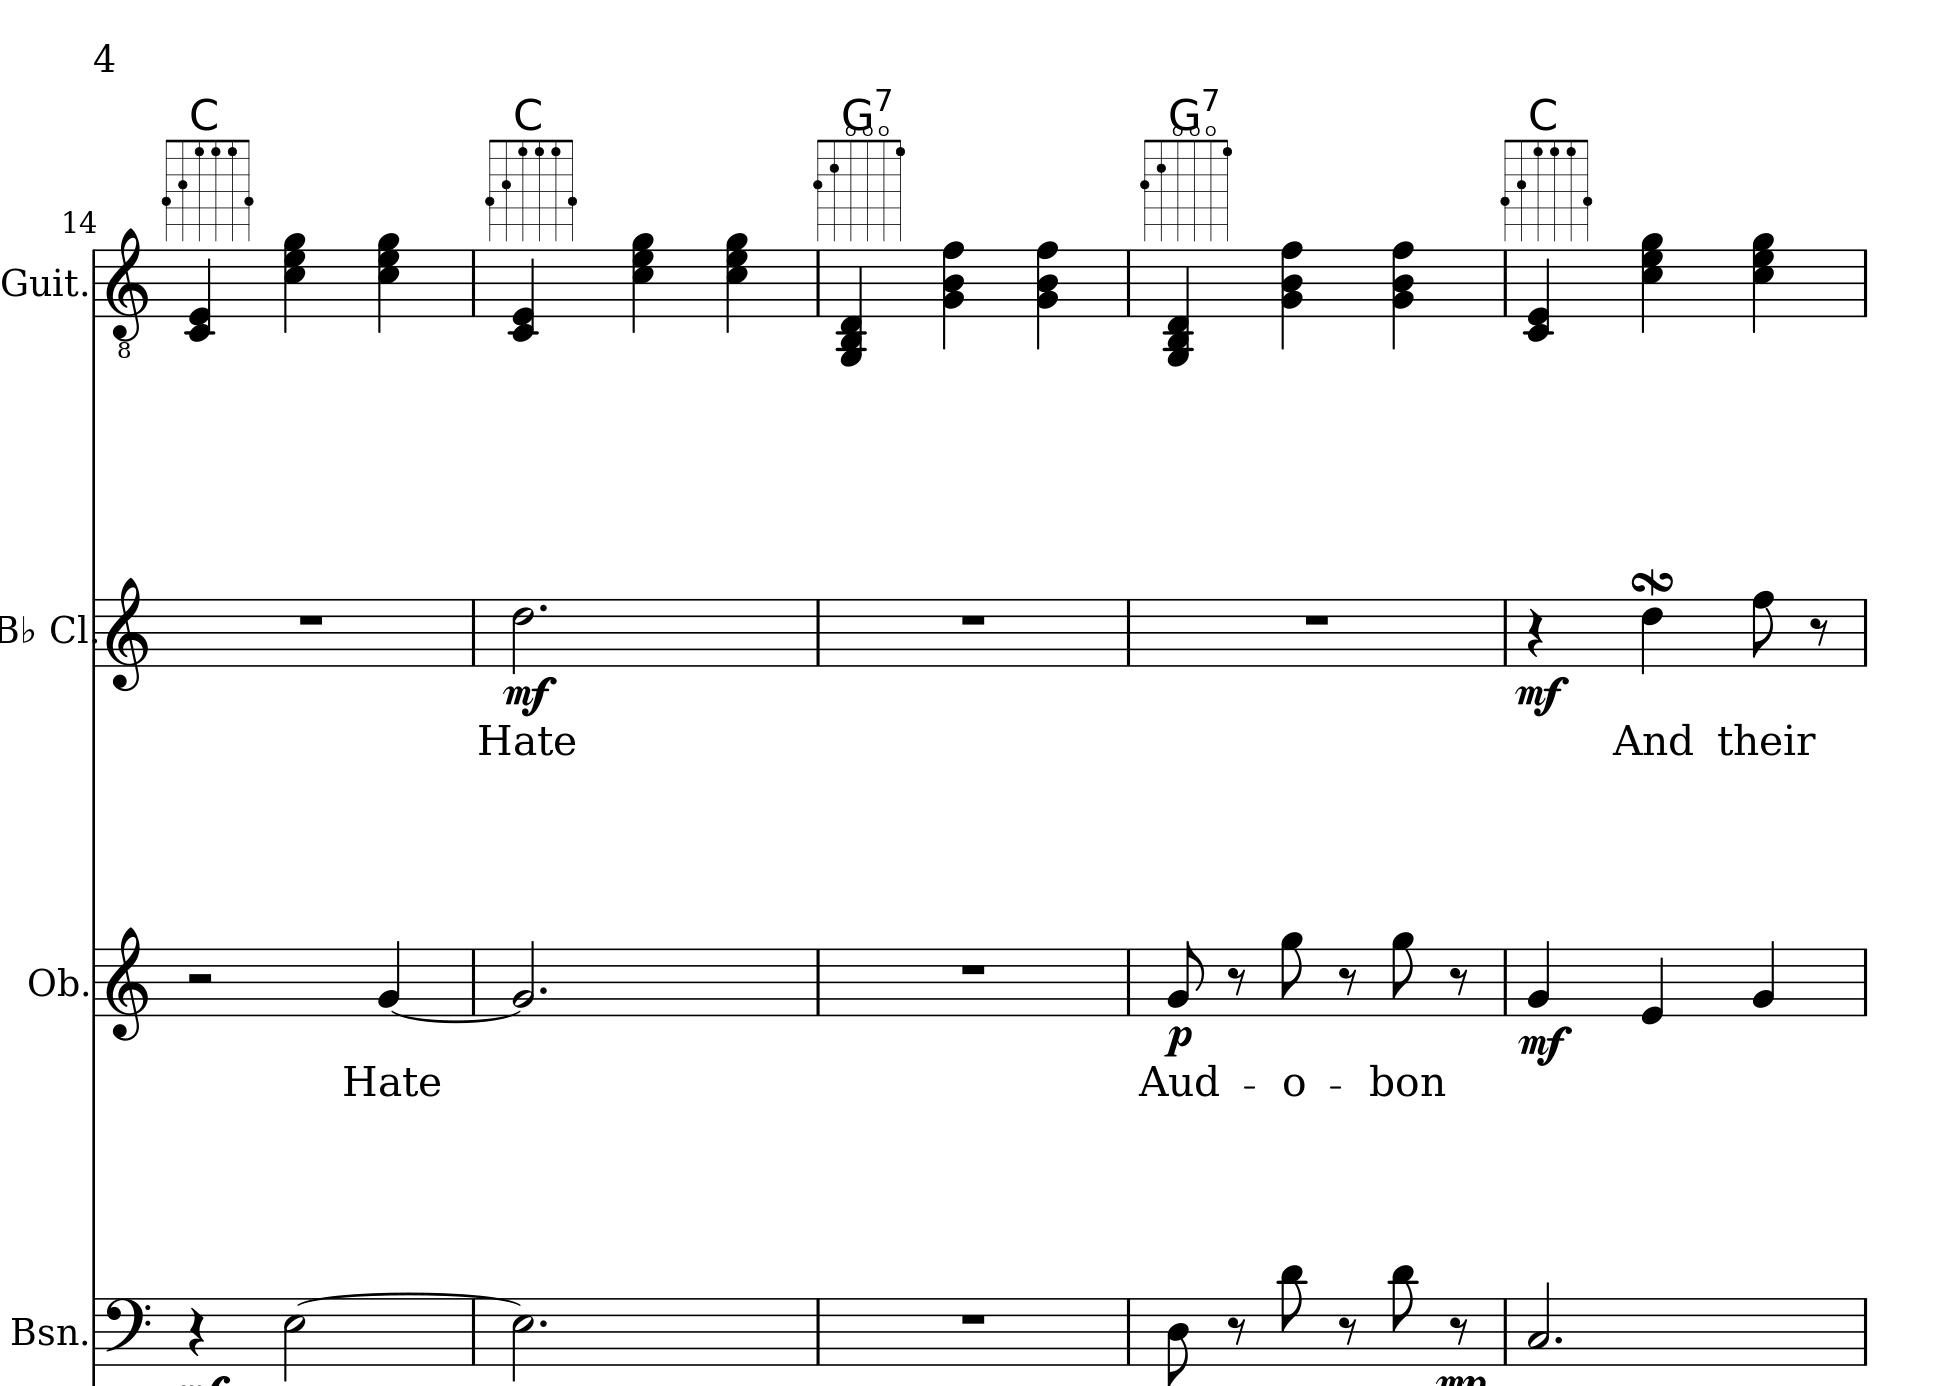2_2: (511, 937, 537, 1018)
2_3: (1527, 1279, 1552, 1366)
2_5: (508, 1294, 535, 1383), (280, 1296, 306, 1381)
2_6: (511, 595, 537, 675)
4: (93, 40, 115, 73)
4_-2_0: (505, 247, 543, 342), (181, 246, 217, 340), (1522, 247, 1557, 342)
4_0: (1641, 946, 1665, 1024)
4_2: (1752, 937, 1779, 1018), (376, 937, 402, 1018), (1527, 939, 1551, 1017)
4_6: (1641, 597, 1665, 675)
4_th: (1162, 244, 1197, 367), (834, 246, 868, 367), (939, 240, 966, 349), (1033, 240, 1060, 349), (1278, 240, 1305, 349), (1389, 240, 1416, 349), (279, 229, 307, 333), (628, 229, 655, 334), (721, 229, 748, 334), (373, 229, 400, 333), (1638, 229, 1665, 333), (1749, 229, 1776, 331)
7: (874, 84, 892, 112), (1201, 84, 1219, 112)
8_11: (1278, 1263, 1309, 1366), (1389, 1263, 1419, 1366)
8_2: (1165, 939, 1204, 1015)
8_4: (1165, 1294, 1194, 1386)
8_8: (1750, 588, 1779, 667)
8_9: (1278, 930, 1306, 1017), (1389, 930, 1417, 1017)
Bsn: (10, 1312, 78, 1351)
Cl: (48, 609, 85, 646)
Fclef: (103, 1296, 154, 1368)
Fretboard: (807, 133, 912, 241), (1134, 132, 1237, 241), (1497, 136, 1597, 241), (157, 135, 256, 241), (481, 135, 580, 241)
Gclef: (103, 574, 151, 693), (105, 924, 148, 1042)
Guit: (1, 262, 81, 301)
Lower_Gclef: (103, 226, 148, 361)
Ob: (28, 963, 79, 1000)
Rests1: (957, 610, 990, 628), (957, 961, 990, 979), (957, 1309, 990, 1327), (295, 610, 327, 628), (1302, 610, 1333, 628)
Rests2: (183, 969, 216, 985)
Rests4: (186, 1303, 207, 1357), (1527, 606, 1545, 658)
Rests8: (1807, 613, 1833, 648), (1225, 964, 1249, 997), (1449, 964, 1471, 997), (1338, 964, 1359, 997), (1227, 1314, 1248, 1347), (1449, 1314, 1470, 1347), (1338, 1314, 1359, 1345)
Single_barline: (1119, 249, 1140, 316), (1855, 598, 1875, 666), (463, 1299, 483, 1363), (463, 598, 481, 664), (1857, 1297, 1875, 1363), (808, 1297, 826, 1363), (1857, 249, 1873, 316), (810, 598, 826, 666), (1120, 598, 1137, 666), (465, 948, 481, 1015), (810, 948, 826, 1015), (1120, 948, 1137, 1015), (1120, 1297, 1137, 1365), (465, 250, 481, 316), (1497, 250, 1513, 316), (810, 250, 826, 316), (1857, 948, 1873, 1014), (1497, 1297, 1513, 1363), (1497, 949, 1513, 1014), (87, 948, 102, 1015), (1497, 598, 1512, 664), (88, 598, 102, 667), (87, 1297, 100, 1365), (88, 247, 100, 318)
Slur: (393, 1009, 517, 1023)
Turn_Slash: (1630, 567, 1677, 595)
dot: (535, 982, 550, 997), (537, 600, 550, 615), (537, 1317, 550, 1330), (1551, 1333, 1566, 1345)
mf: (1515, 673, 1569, 718), (1518, 1024, 1575, 1066), (502, 673, 556, 715)
p: (1161, 1023, 1194, 1057)
